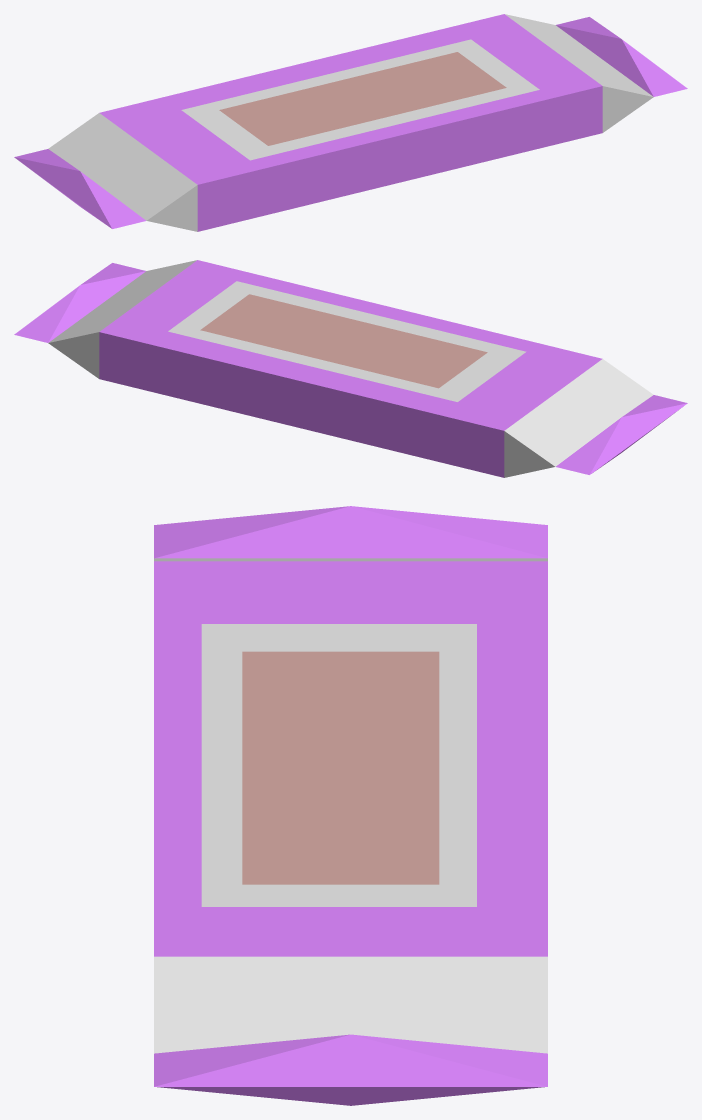
The model's file is ChocolateBar.fbx.
3 renders of one model, top to bottom at view 1: azimuth 30°, elevation 25°; view 2: azimuth 150°, elevation 25°; view 3: azimuth 270°, elevation 25°, orthographic. The views are drawn at different scales.
Visible parts, largest first — view 1: ChocolateBar; view 2: ChocolateBar; view 3: ChocolateBar.
Part boxes in pixels (x1,y1,x2,y2): ChocolateBar: [14, 14, 687, 231]; ChocolateBar: [14, 260, 687, 477]; ChocolateBar: [154, 506, 547, 1105].
Size of the model in its own units: 0.3376 by 0.0264 by 0.1.
